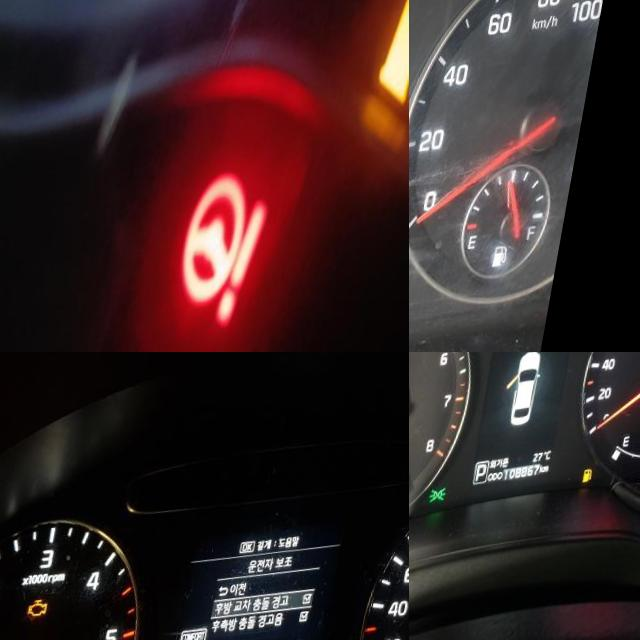Electronic Power Steering: (180, 142, 294, 352)
Low fuel level: (596, 480, 608, 496)
SideLamp: (443, 494, 461, 511)
